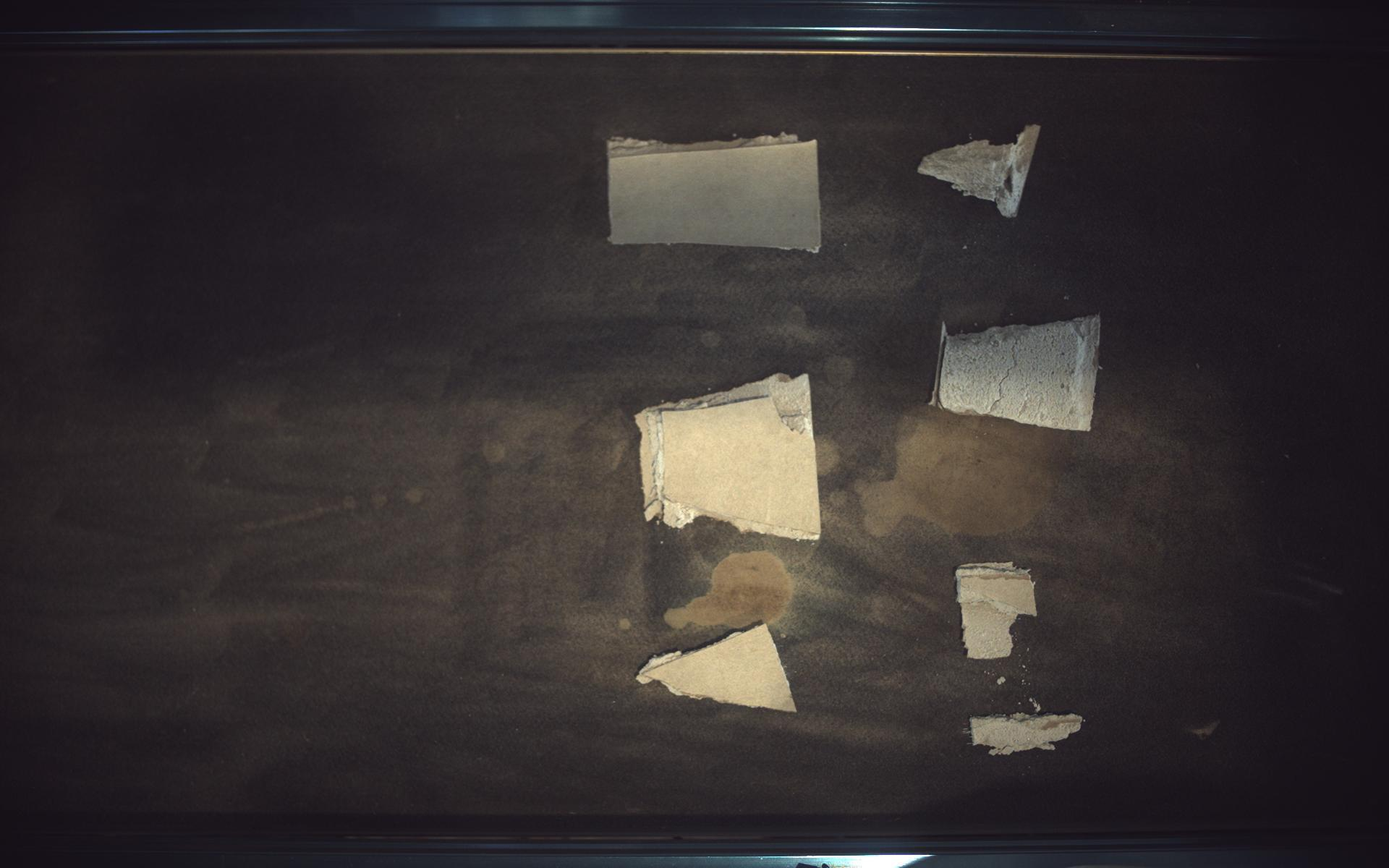gypsum_board: (636, 374, 822, 540), (609, 132, 823, 251), (933, 315, 1102, 431), (637, 624, 797, 713), (919, 124, 1042, 217), (958, 563, 1039, 660), (974, 714, 1085, 757)
